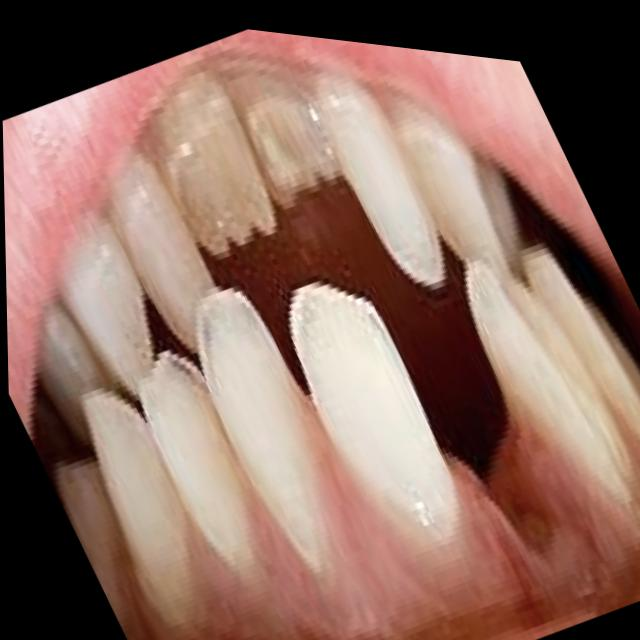hypodontia: (290, 266, 624, 619)
tooth-discoloration: (153, 76, 340, 259)
